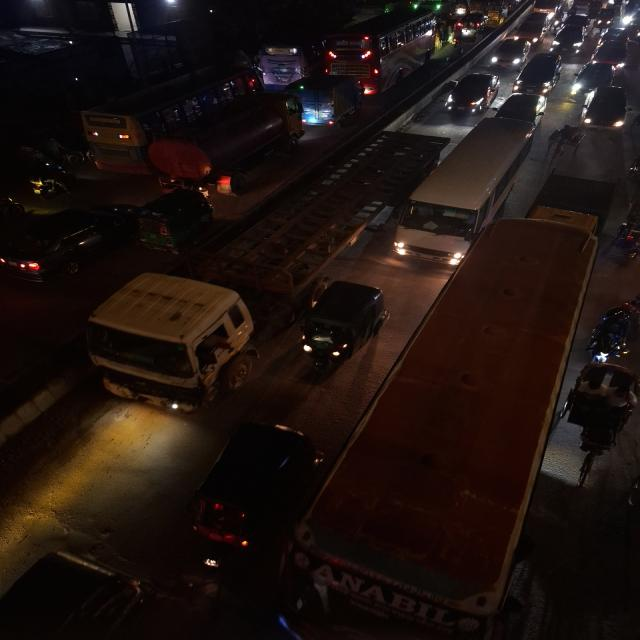bus: (393, 120, 533, 269), (70, 62, 259, 170), (320, 9, 439, 94), (254, 41, 313, 88)
car: (72, 63, 258, 168), (0, 200, 129, 284), (580, 84, 632, 136), (441, 70, 499, 116), (494, 92, 547, 135), (513, 52, 565, 95), (570, 60, 620, 97), (488, 36, 533, 68), (552, 18, 590, 54), (590, 41, 631, 71), (510, 13, 551, 43)
cng: (183, 419, 323, 559), (0, 551, 163, 640), (295, 279, 393, 375), (131, 186, 219, 254)
motorcycle: (582, 297, 639, 365), (12, 144, 72, 200), (612, 202, 640, 266)
rickshaw: (557, 360, 640, 469)
truck: (73, 269, 279, 415), (143, 94, 302, 182), (300, 74, 363, 126), (299, 75, 363, 126), (534, 0, 562, 16)
